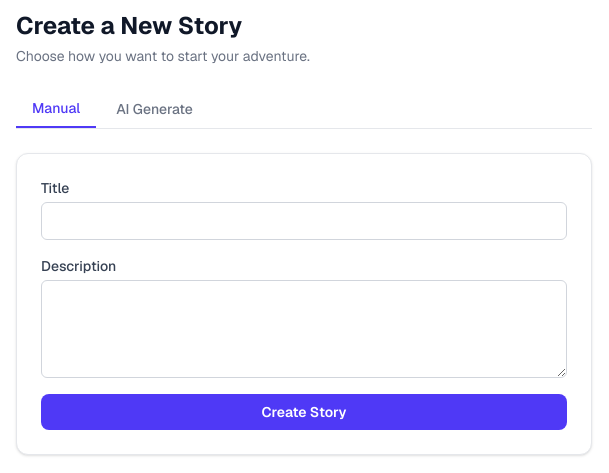
Test: NewStoryPage › shows validation error when prompt is too short in AI mode
Click the button "AI Generate" at {"x": 154, "y": 109}, box x1=100 y1=90 x2=209 y2=128
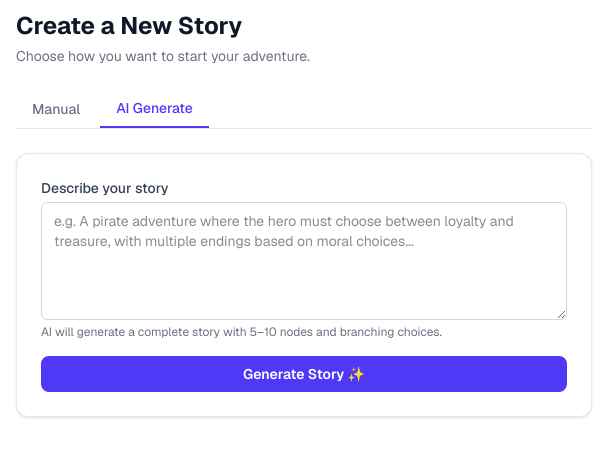
Type "short" into the text box labelled "Describe your story" at {"x": 304, "y": 261}, box x1=41 y1=202 x2=567 y2=320
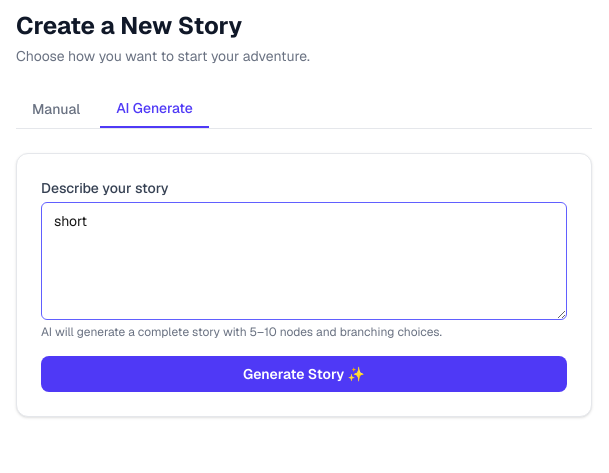
Click the button "Generate Story ✨" at {"x": 304, "y": 374}, box x1=41 y1=356 x2=567 y2=392
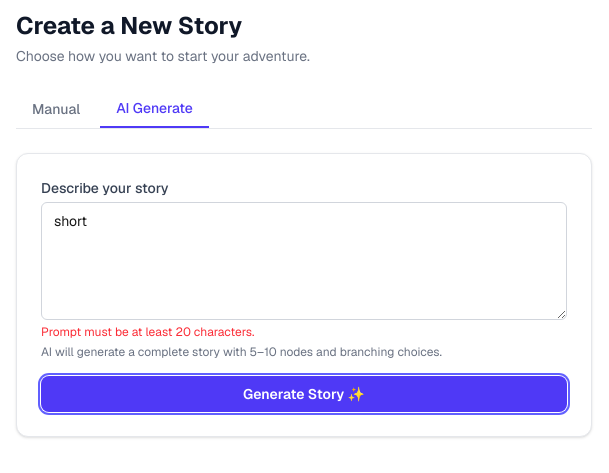
Result: the text "Prompt must be at least 20 characters." is shown at x1=41 y1=324 x2=254 y2=340
